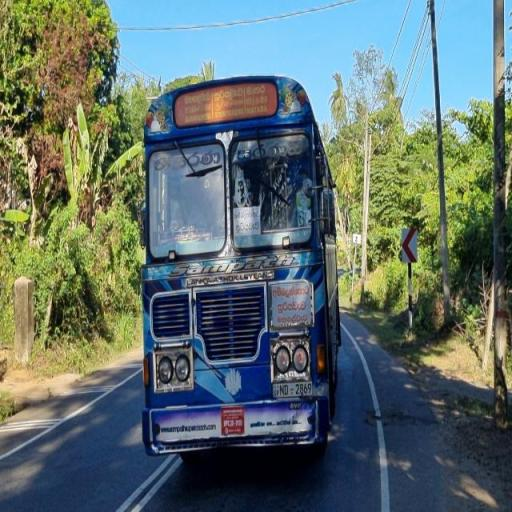double_white_line: (114, 455, 180, 512)
